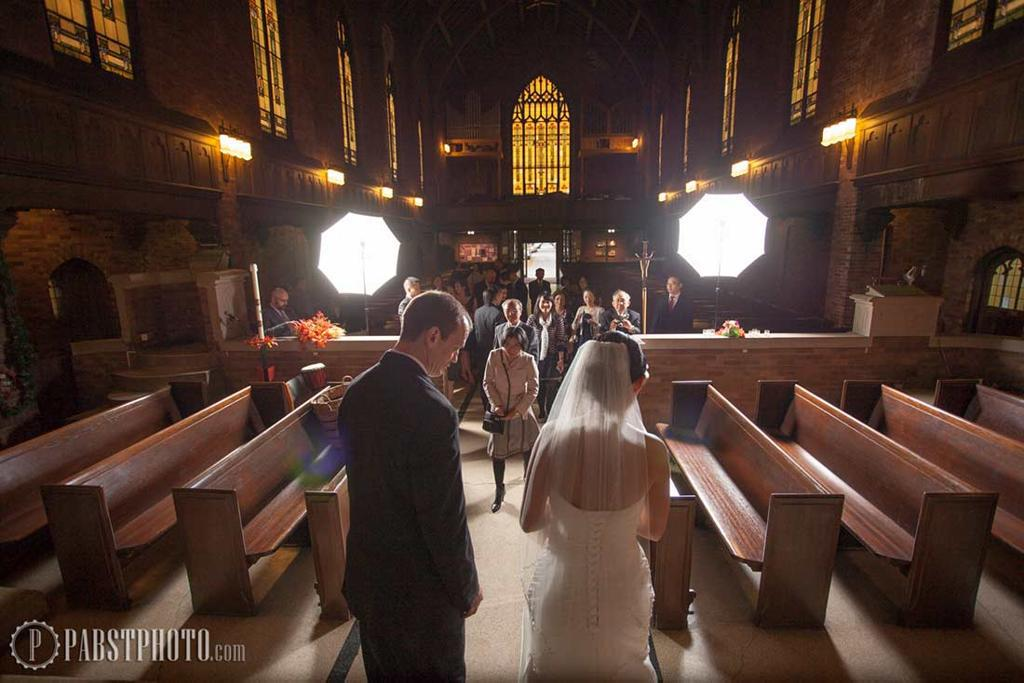face: (426, 315, 471, 378), (504, 337, 522, 359), (504, 304, 520, 325), (614, 294, 628, 312), (539, 297, 553, 314), (666, 278, 679, 294), (278, 293, 289, 311), (411, 283, 422, 299), (583, 292, 595, 306), (555, 294, 566, 308), (579, 277, 589, 290), (495, 290, 503, 306), (505, 270, 515, 281), (486, 271, 495, 283), (434, 278, 443, 289), (455, 283, 463, 294), (537, 270, 544, 279), (474, 265, 480, 273)
